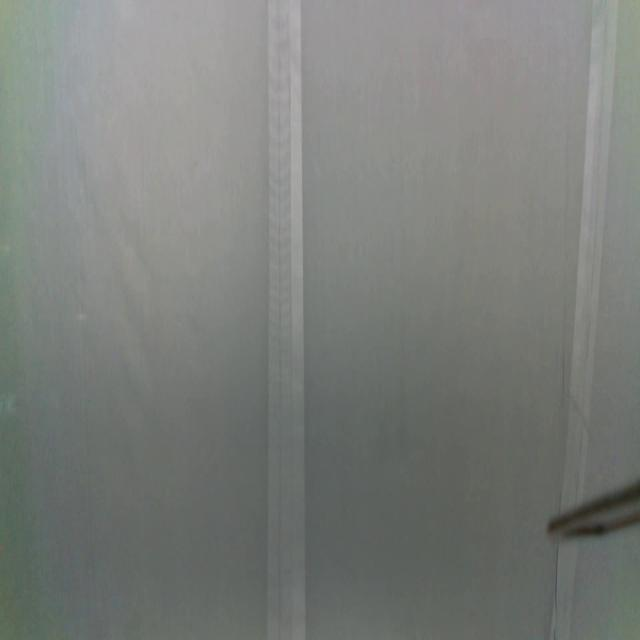crease: (557, 0, 618, 500), (266, 0, 306, 640), (547, 542, 577, 636)
